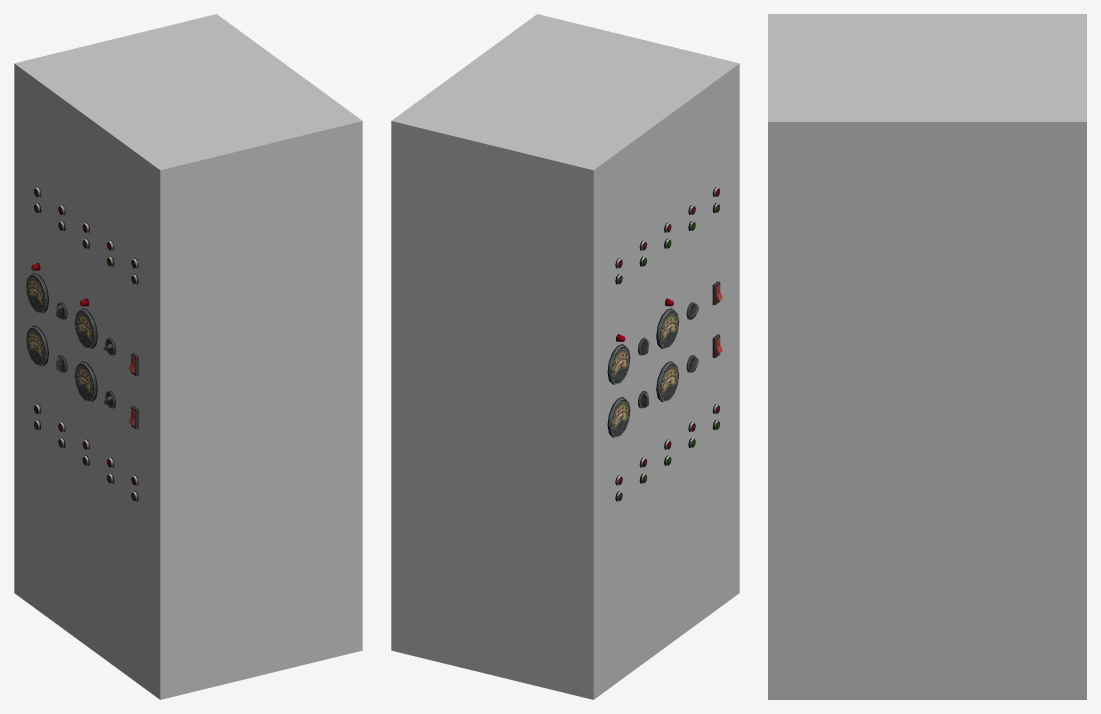
The model's file is auxPanel01_B.FBX.
The picture shows the model from 3 angles, left to right: view 1: azimuth 30°, elevation 25°; view 2: azimuth 150°, elevation 25°; view 3: azimuth 270°, elevation 25°; orthographic projection. The views are drawn at different scales.
Parts seen in each view (by area): view 1: auxPanel01_B, ctrlPanel_gauges, ctrlPanel_buttons; view 2: auxPanel01_B, ctrlPanel_gauges, ctrlPanel_buttons; view 3: auxPanel01_B.
Boxes of the visible parts, x1,y1,x2,y2 form: auxPanel01_B: (14,14,362,699); ctrlPanel_gauges: (26,273,97,401); ctrlPanel_buttons: (31,187,138,501); auxPanel01_B: (391,14,739,699); ctrlPanel_gauges: (607,308,679,437); ctrlPanel_buttons: (615,187,720,501); auxPanel01_B: (768,14,1086,699).
Size of the model in its own units: 82.76 by 200 by 100.
